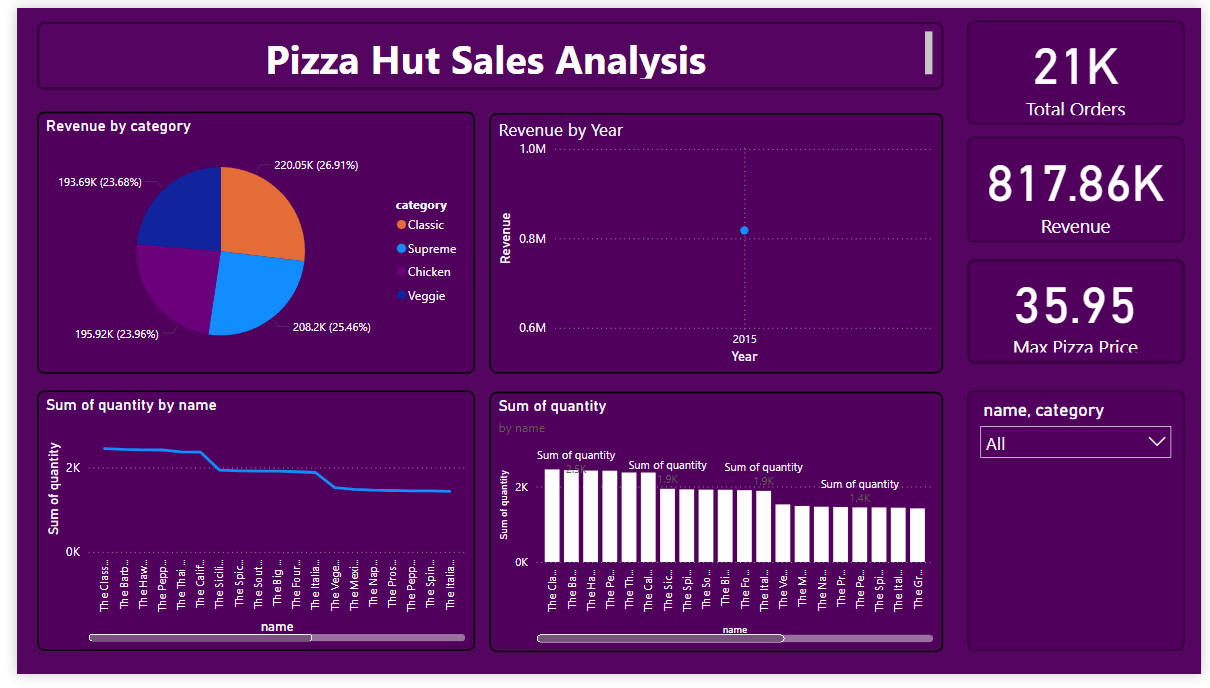

This screenshot's page, from the dashboard's own definition file:
{"tool":"powerbi","page":{"name":"Page 1","canvas":[1280,720],"ordinal":0},"visuals":[{"type":"lineChart","fields":{"Category":["orders.date.Variation.Date Hierarchy.Year","orders.date.Variation.Date Hierarchy.Quarter","orders.date.Variation.Date Hierarchy.Month","orders.date.Variation.Date Hierarchy.Day"],"Y":["orders.Revenue"]},"box":[511.4,112.9,490,281.4],"z":0},{"type":"columnChart","fields":{"Category":["pizza_types.name"],"Y":["Sum(order_details.quantity)"]},"box":[511.4,414.3,490,281.4],"z":1},{"type":"card","fields":{"Values":["orders.Total Orders"]},"box":[1026.8,14.1,235.2,112.7],"z":3},{"type":"card","fields":{"Values":["orders.Revenue"]},"box":[1026.8,139.4,235.2,114.1],"z":4},{"type":"card","fields":{"Values":["pizzas.Max Pizza Price"]},"box":[1026.8,271.8,235.2,112.7],"z":5},{"type":"slicer","fields":{"Values":["pizza_types.name","pizza_types.category"]},"box":[1026.8,414.1,235.2,281.7],"z":6},{"type":"textbox","box":[21.7,14.5,979.6,73.6],"z":8},{"type":"pieChart","fields":{"Category":["pizza_types.category"],"Y":["orders.Revenue"]},"box":[21.1,112.7,473.2,283.1],"z":9},{"type":"lineChart","fields":{"Category":["pizza_types.name"],"Y":["Sum(order_details.quantity)"]},"box":[21.1,414.1,473.2,281.7],"z":11}]}

Visuals, with their boxes in screenshot pixels (x1, y1, x2, y2), scaled from the page's 1280x720 canvas onto the 1210x688 screenshot:
lineChart - orders.date.Variation.Date Hierarchy.Year x orders.date.Variation.Date Hierarchy.Quarter: bbox=(483, 108, 947, 377)
columnChart - pizza_types.name x Sum(order_details.quantity): bbox=(483, 396, 947, 665)
card - orders.Total Orders: bbox=(971, 13, 1193, 121)
card - orders.Revenue: bbox=(971, 133, 1193, 242)
card - pizzas.Max Pizza Price: bbox=(971, 260, 1193, 367)
slicer - pizza_types.name x pizza_types.category: bbox=(971, 396, 1193, 665)
textbox: bbox=(21, 14, 947, 84)
pieChart - pizza_types.category x orders.Revenue: bbox=(20, 108, 467, 378)
lineChart - pizza_types.name x Sum(order_details.quantity): bbox=(20, 396, 467, 665)
